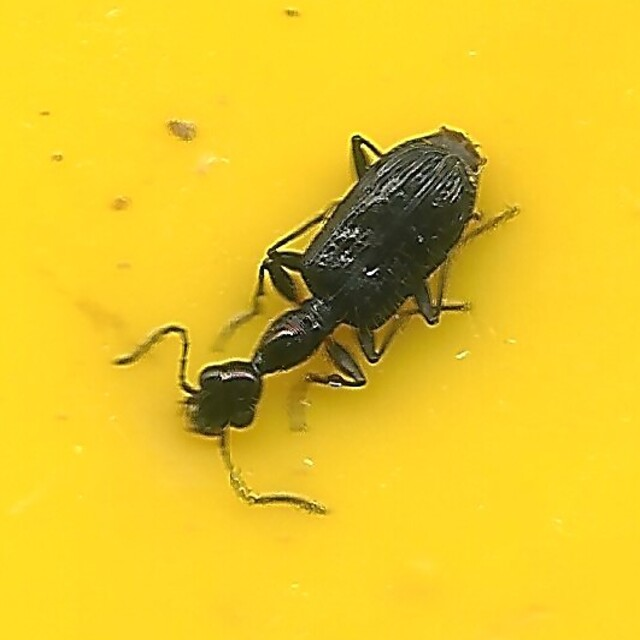Coleoptera: (121, 122, 519, 518)
